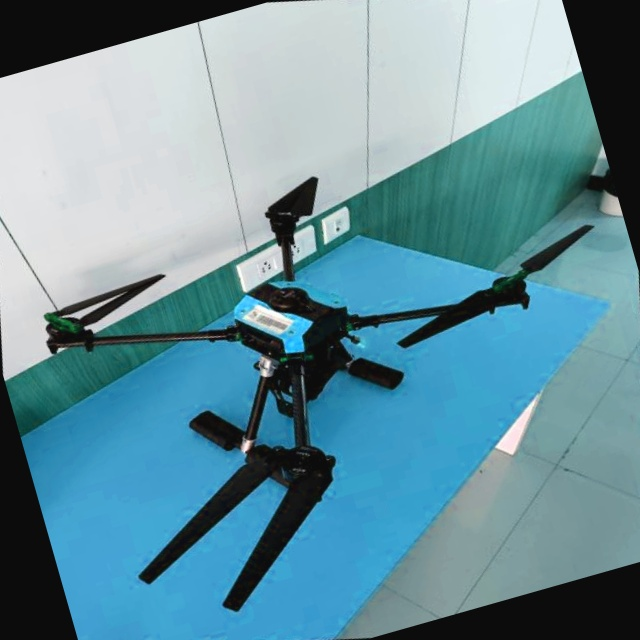quadcopter: (0, 35, 640, 640)
